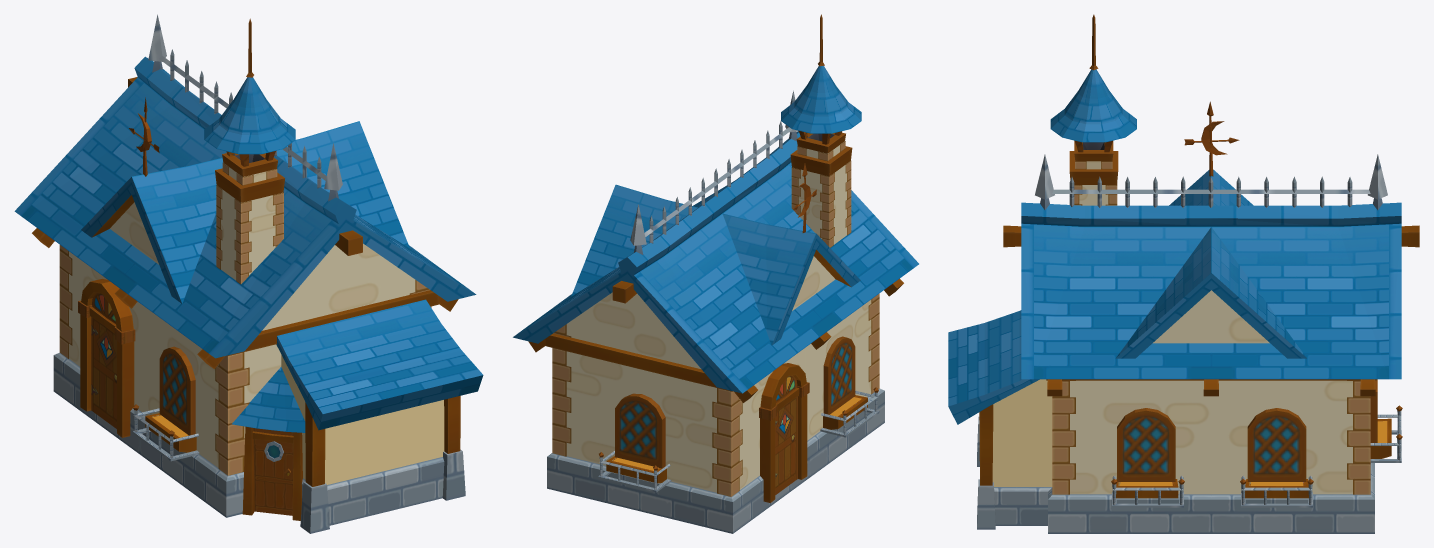
File: BLD0910022.fbx
3 views of the same model, side by side, from view 1: azimuth 30°, elevation 25°; view 2: azimuth 150°, elevation 25°; view 3: azimuth 270°, elevation 25° (orthographic). The views are drawn at different scales.
Visible parts, largest first — view 1: smBLD0910022; view 2: smBLD0910022; view 3: smBLD0910022.
Part boxes in pixels (<box>): smBLD0910022: <box>14,14,483,533</box>; smBLD0910022: <box>513,14,918,533</box>; smBLD0910022: <box>948,14,1419,533</box>.
Size of the model in its own units: 247 by 424 by 407.
Materials: 1 (1 with a texture image).
